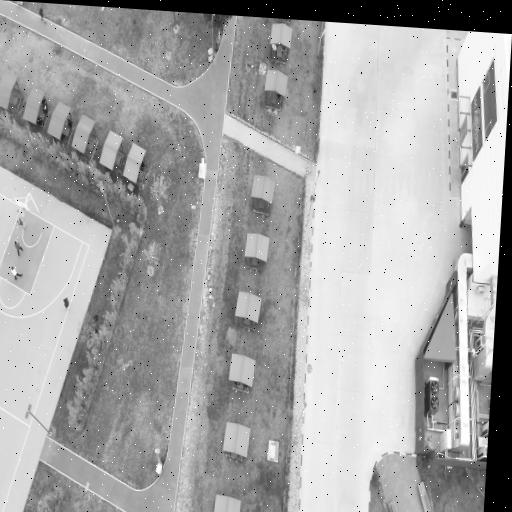person: (10, 266, 21, 280), (14, 241, 22, 256), (38, 8, 45, 23), (17, 218, 25, 228), (62, 297, 68, 309), (42, 99, 46, 113), (36, 116, 41, 126), (139, 162, 143, 172)
